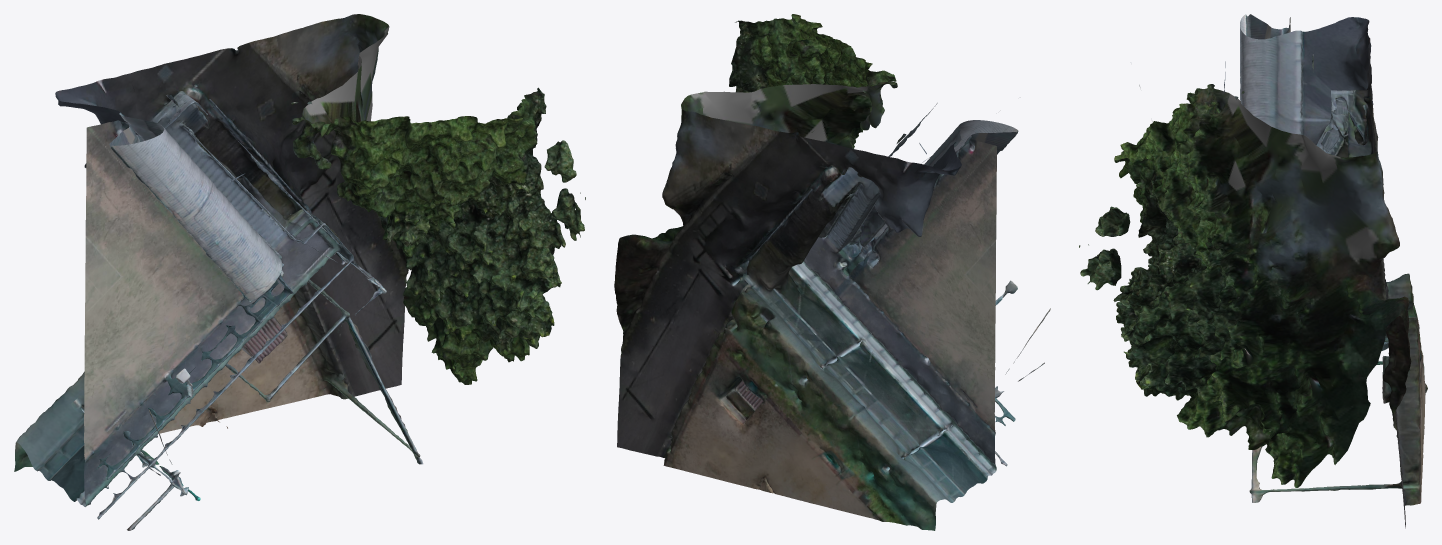
The model's file is Tile_+020_+017.fbx.
The picture shows the model from 3 angles, left to right: view 1: azimuth 30°, elevation 25°; view 2: azimuth 150°, elevation 25°; view 3: azimuth 270°, elevation 25°; orthographic projection. The views are drawn at different scales.
Visible parts, largest first — view 1: DefaultName; view 2: DefaultName; view 3: DefaultName.
Part boxes in pixels (box(x1,y1,x2,y2)): DefaultName: box(14, 14, 585, 530); DefaultName: box(614, 14, 1050, 530); DefaultName: box(1079, 14, 1427, 528).
Size of the model in its own units: 22.54 by 22.54 by 20.21.
